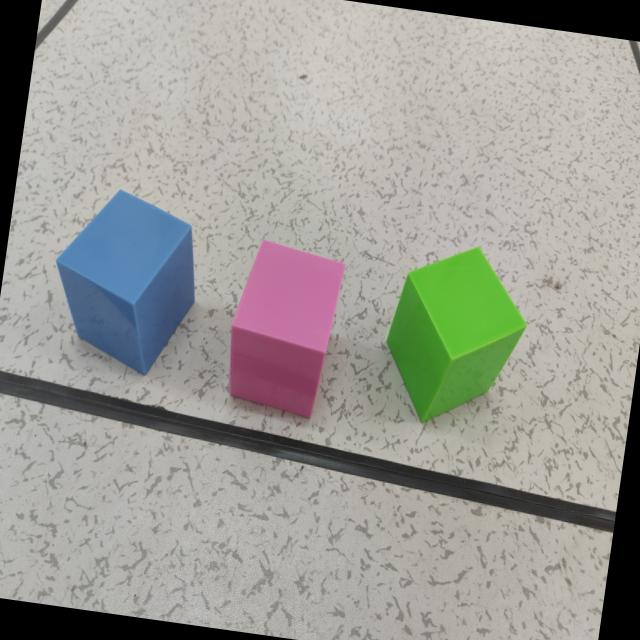blue: (55, 192, 196, 377)
green: (385, 249, 526, 425)
pink: (228, 242, 346, 419)
